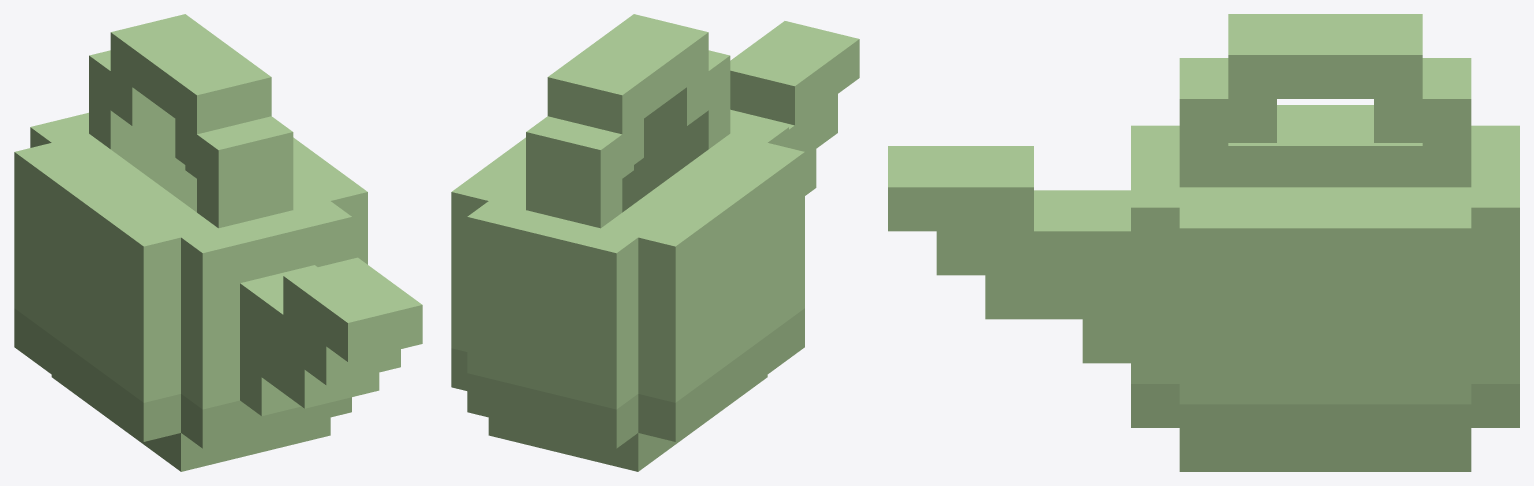
The model's file is Regadera.fbx.
3 views of the same model, side by side, from view 1: azimuth 30°, elevation 25°; view 2: azimuth 150°, elevation 25°; view 3: azimuth 270°, elevation 25° (orthographic). The views are drawn at different scales.
Parts seen in each view (by area): view 1: regadera_6x9x13; view 2: regadera_6x9x13; view 3: regadera_6x9x13.
Boxes of the visible parts, x1,y1,x2,y2 form: regadera_6x9x13: (14, 14, 422, 471); regadera_6x9x13: (451, 14, 859, 471); regadera_6x9x13: (888, 14, 1519, 471).
Size of the model in its own units: 500 by 750 by 1083.
